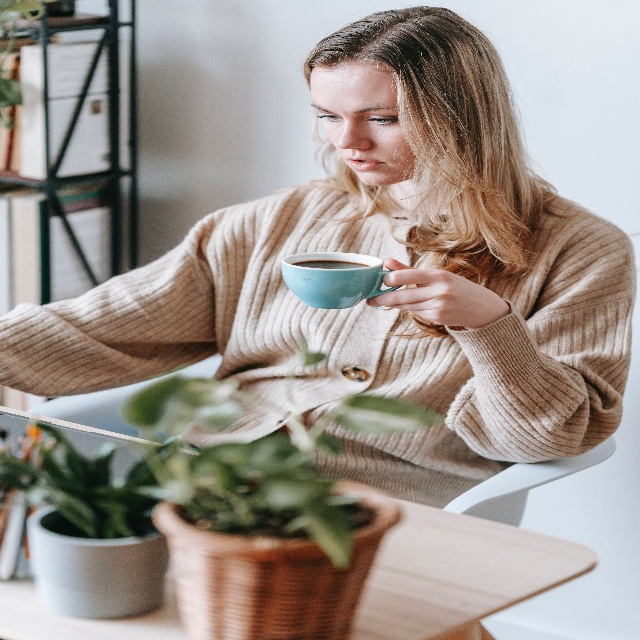Sin_guantes: (365, 251, 495, 338)
